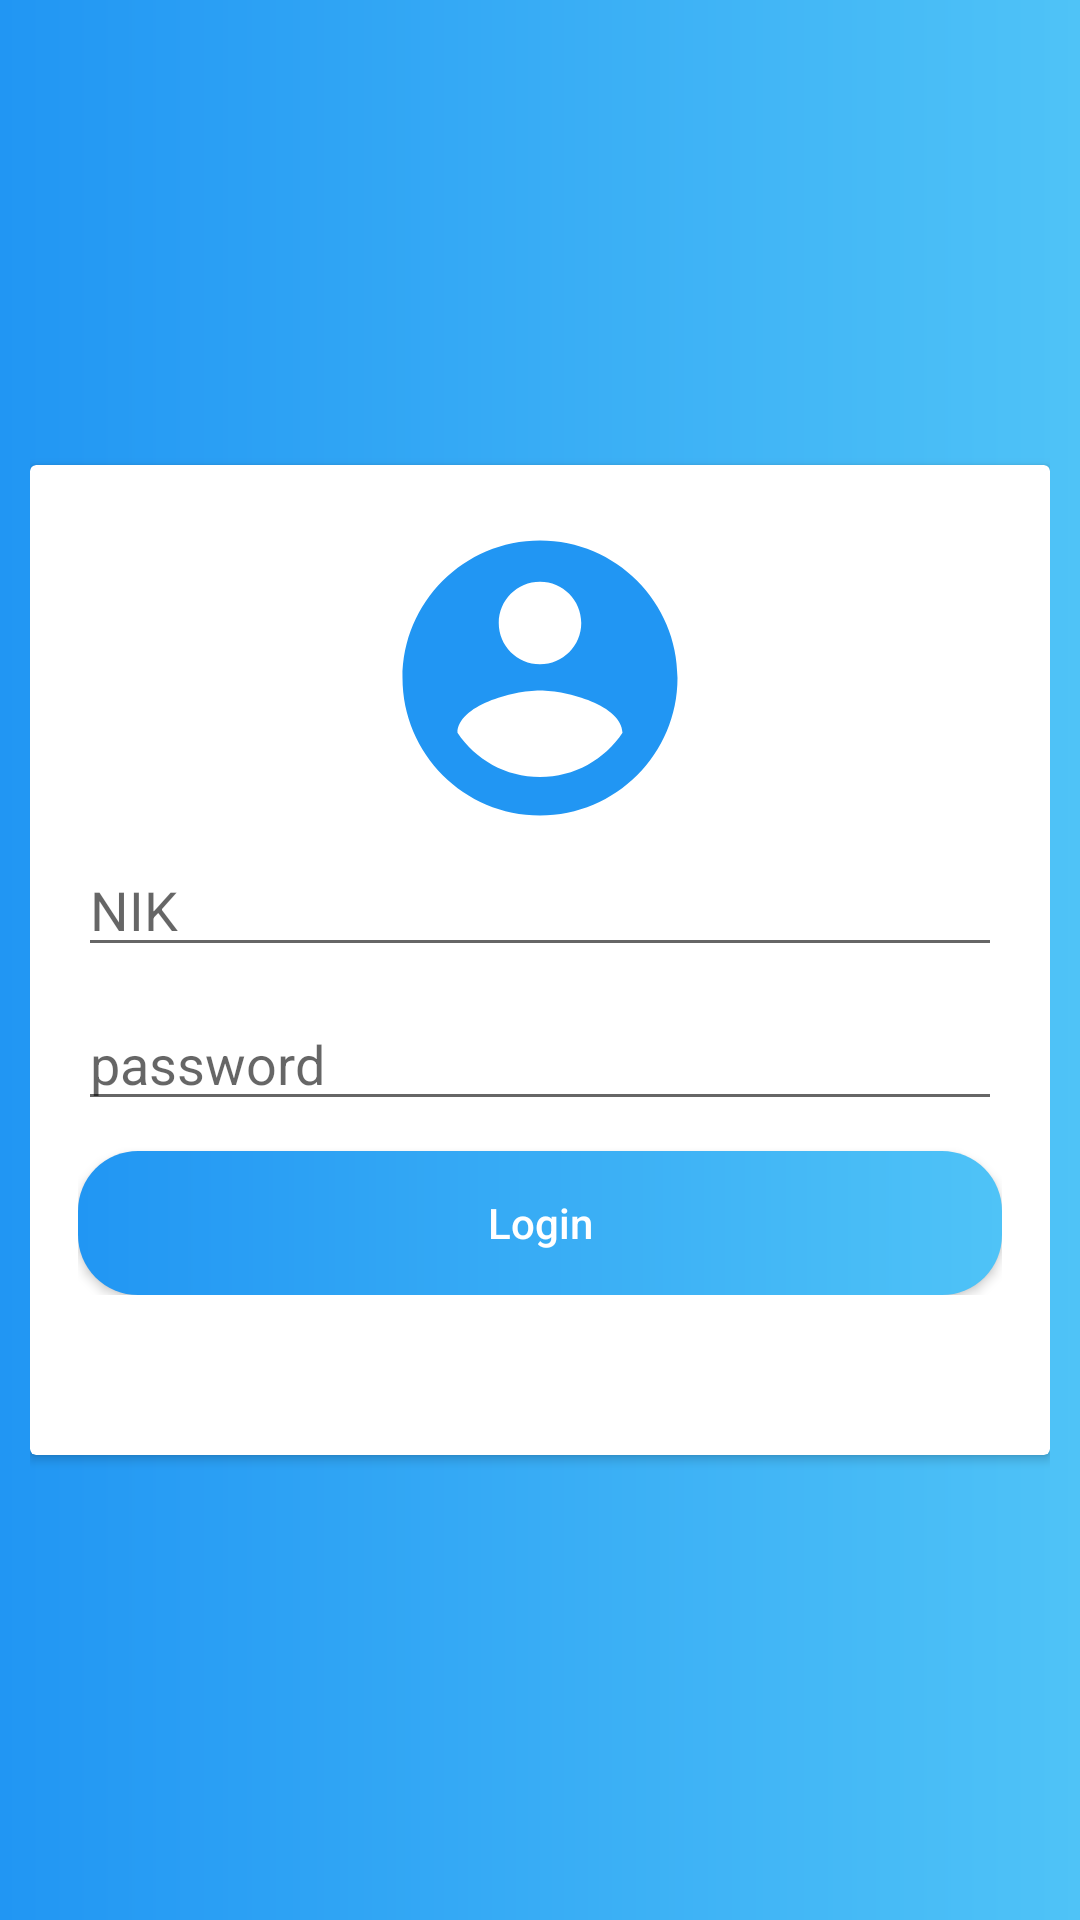

Named icons in this screenshot (1080*1920) and their bounding boxes, (x1, y1, x2, y2):
account circle: (402, 540, 678, 816)
